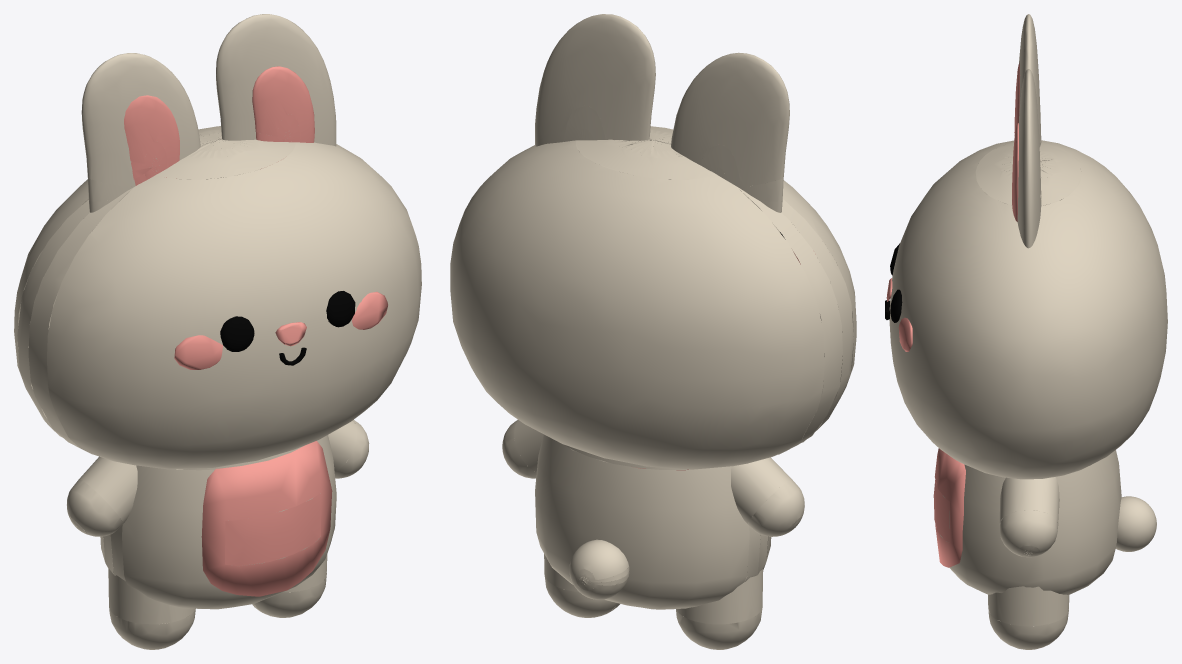
File: rabbit_rig.glb
3 renders of one model, left to right at view 1: azimuth 30°, elevation 25°; view 2: azimuth 150°, elevation 25°; view 3: azimuth 270°, elevation 25°, orthographic. The views are drawn at different scales.
Visible parts, largest first — view 1: rabbit_head, face, rabbit_body, ear_L, ear_R, arm_L, foot_L, foot_R, arm_R; view 2: rabbit_head, rabbit_body, ear_L, ear_R, arm_L, foot_L, tail, foot_R, arm_R; view 3: rabbit_head, rabbit_body, arm_R, foot_R, face, ear_R, tail, ear_L.
Boxes of the visible parts, box(x1,y1,x2,y2) form: rabbit_head: box(14, 126, 421, 469); face: box(174, 291, 387, 596); rabbit_body: box(100, 435, 336, 609); ear_L: box(81, 53, 200, 212); ear_R: box(216, 14, 336, 175); arm_L: box(67, 456, 137, 536); foot_L: box(108, 558, 195, 649); foot_R: box(252, 554, 327, 617); arm_R: box(328, 420, 369, 478); rabbit_head: box(450, 126, 856, 469); rabbit_body: box(535, 434, 771, 609); ear_L: box(669, 52, 789, 232); ear_R: box(535, 14, 655, 151); arm_L: box(731, 457, 804, 536); foot_L: box(676, 566, 763, 649); tail: box(569, 539, 629, 599); foot_R: box(544, 554, 619, 617); arm_R: box(502, 420, 576, 478); rabbit_head: box(889, 140, 1167, 479); rabbit_body: box(940, 450, 1121, 594); arm_R: box(999, 477, 1059, 557); foot_R: box(988, 586, 1069, 649); face: box(885, 243, 965, 567); ear_R: box(1012, 69, 1041, 248); tail: box(1115, 496, 1156, 551); ear_L: box(1014, 14, 1041, 161).
Size of the model in its own units: 4.6 by 7.03 by 3.21.
